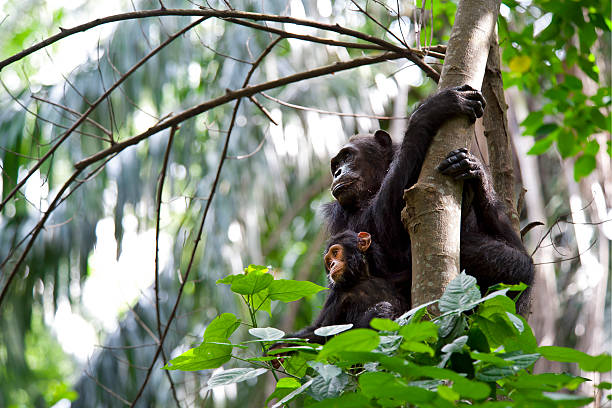chimpanzee: (312, 119, 395, 212), (305, 221, 381, 299)
